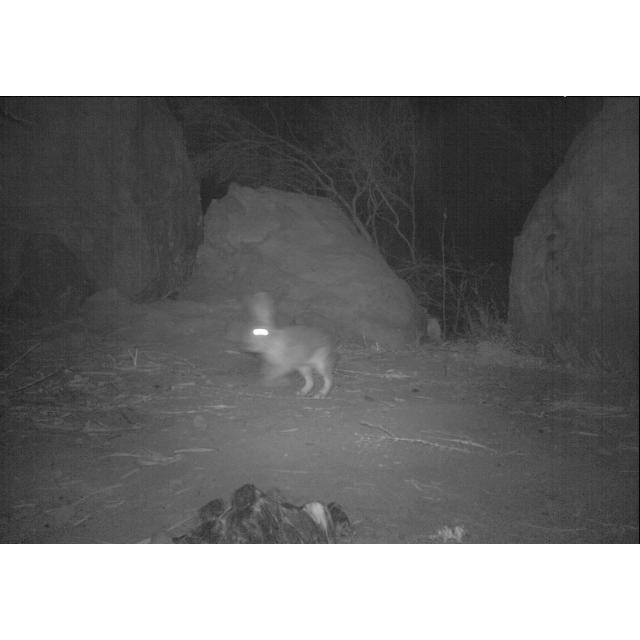animals: (236, 278, 340, 402)
